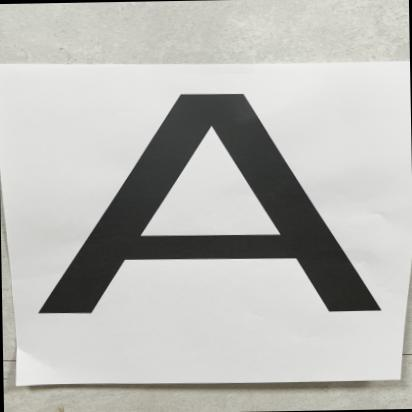seat: (30, 77, 412, 343)
